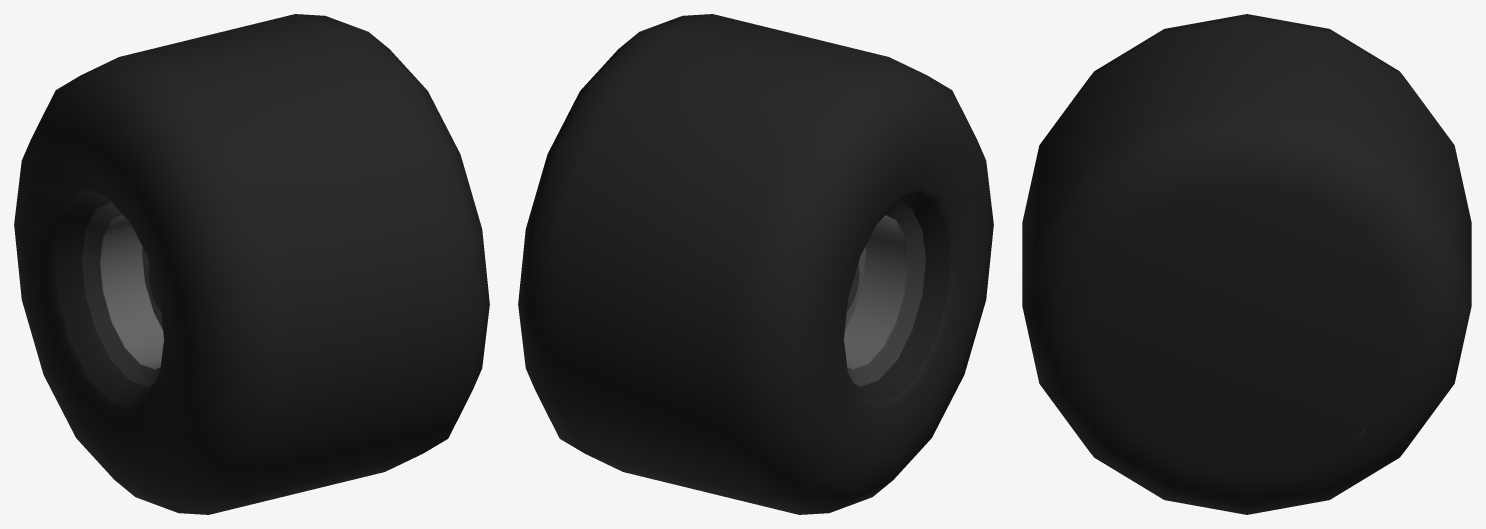
File: Tire.fbx
3 views of the same model, side by side, from view 1: azimuth 30°, elevation 25°; view 2: azimuth 150°, elevation 25°; view 3: azimuth 270°, elevation 25° (orthographic). The views are drawn at different scales.
Visible parts, largest first — view 1: Circle.012; view 2: Circle.012; view 3: Circle.012.
Part boxes in pixels (<box>): Circle.012: <box>14,14,489,514</box>; Circle.012: <box>518,14,993,514</box>; Circle.012: <box>1022,14,1471,514</box>.
Size of the model in its own units: 49.9 by 69.74 by 69.74.
